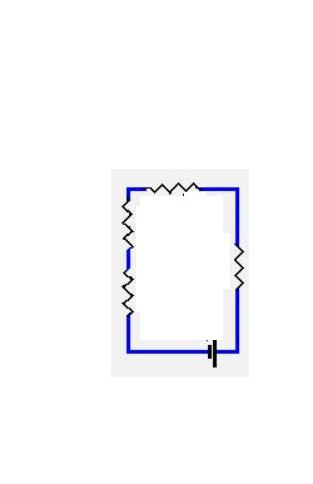resistor: (213, 231, 258, 298), (137, 171, 209, 205), (111, 257, 148, 322)
